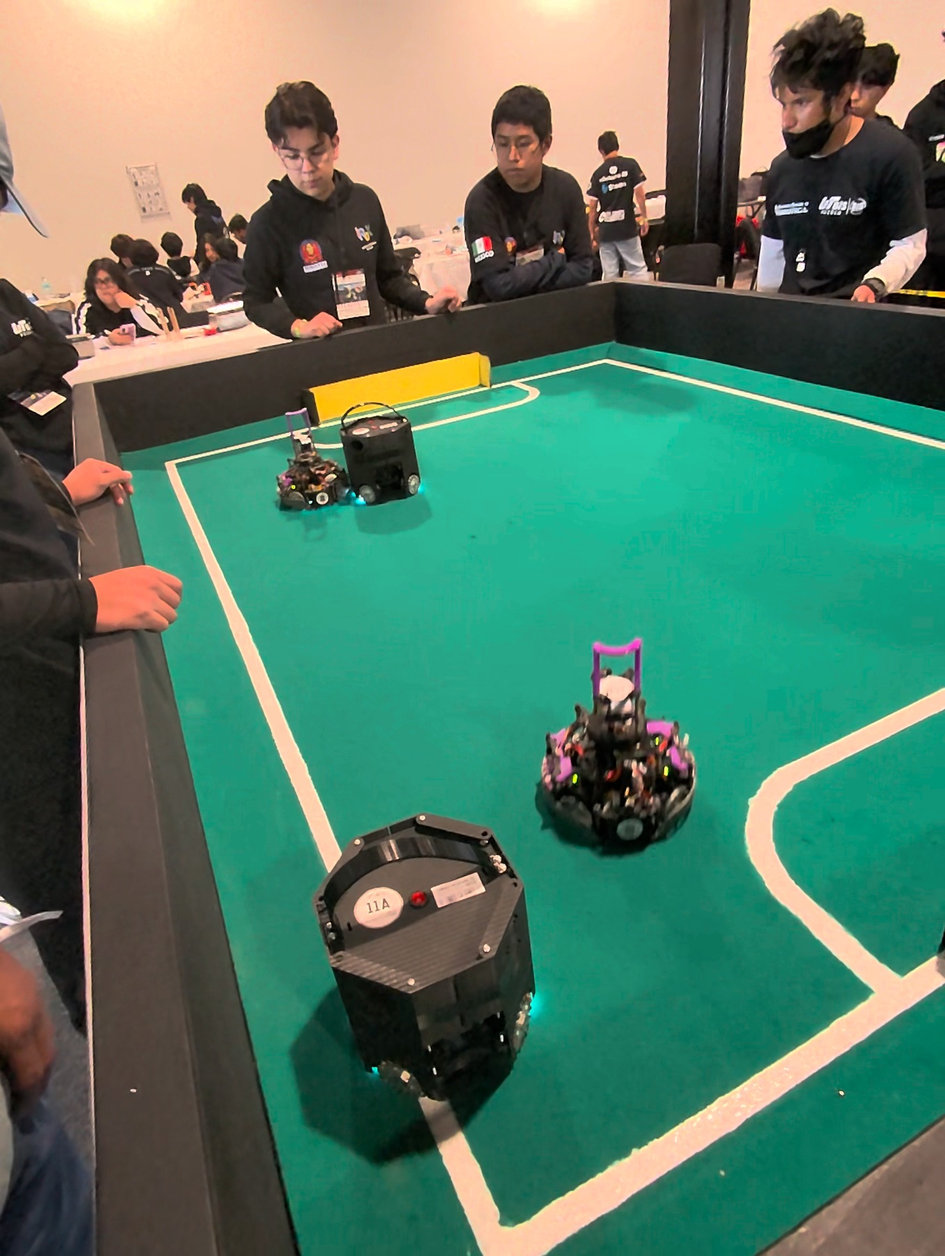Robot: (285, 779, 542, 1112), (541, 655, 698, 864), (341, 387, 434, 538), (274, 432, 338, 515)
